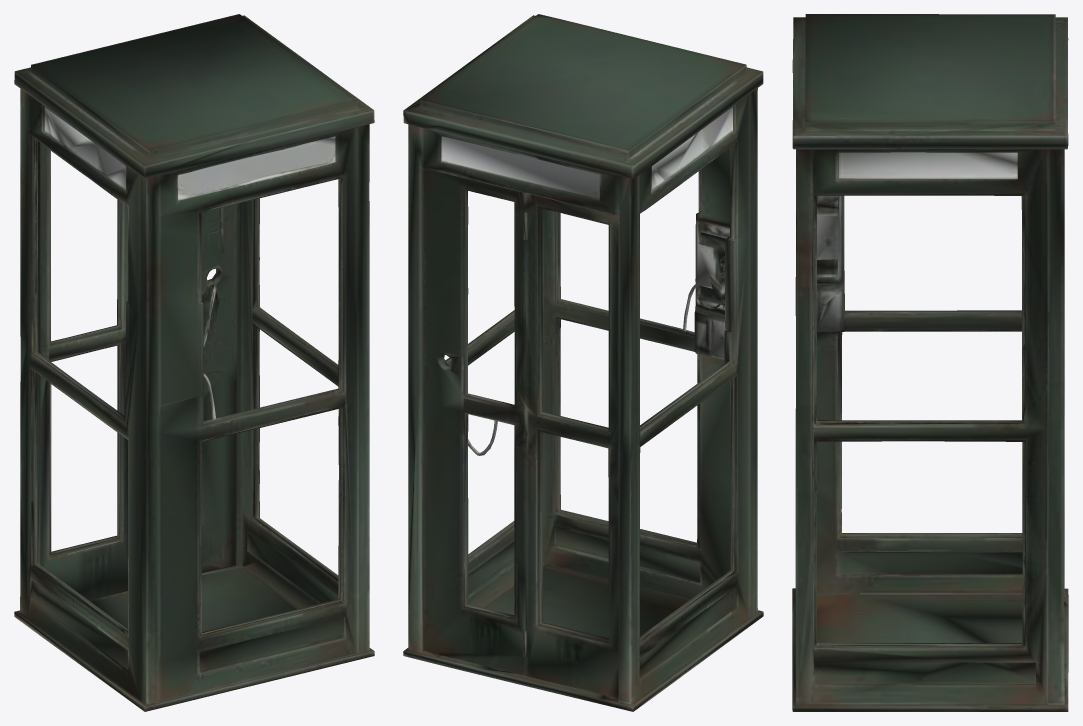
Rendered from phonebox.glb.
The picture shows the model from 3 angles, left to right: view 1: azimuth 30°, elevation 25°; view 2: azimuth 150°, elevation 25°; view 3: azimuth 270°, elevation 25°; orthographic projection. The views are drawn at different scales.
Size of the model in its own units: 0.8276 by 1.9 by 0.8144.
Materials: 1 (1 with a texture image).
